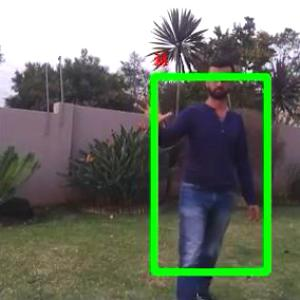follow_hand: (129, 87, 173, 130)
